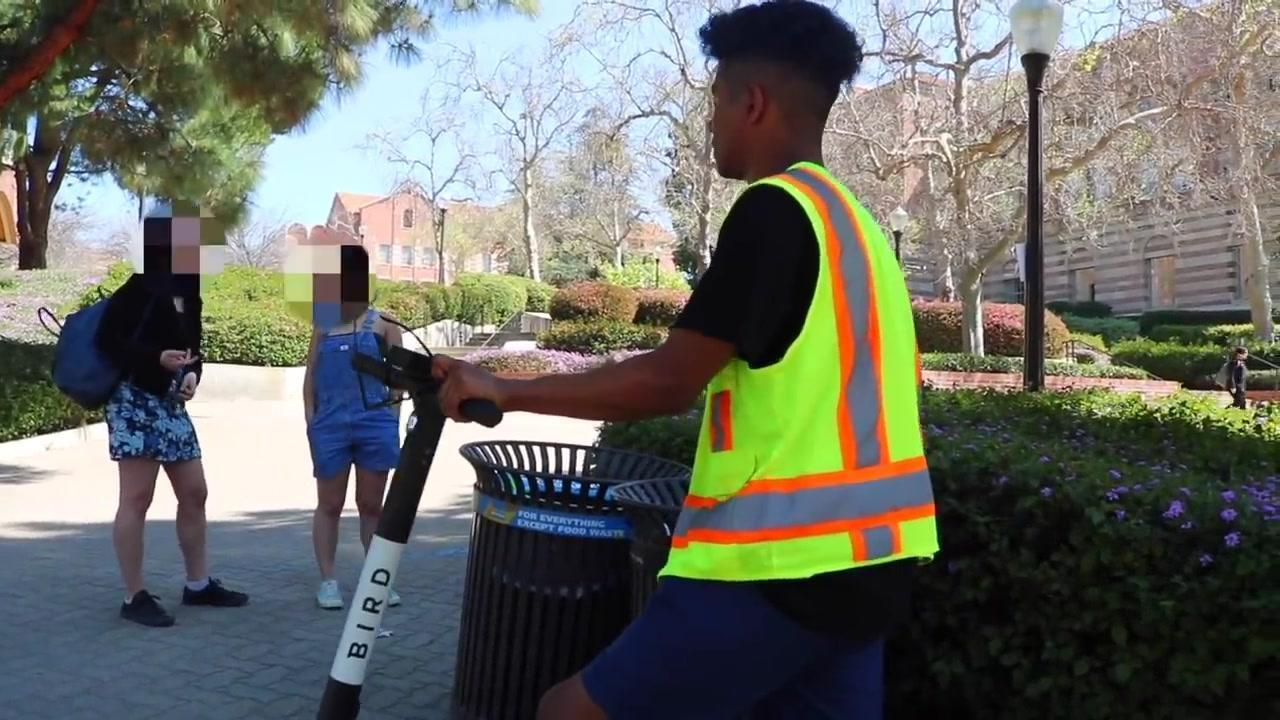vest: (653, 159, 938, 586)
